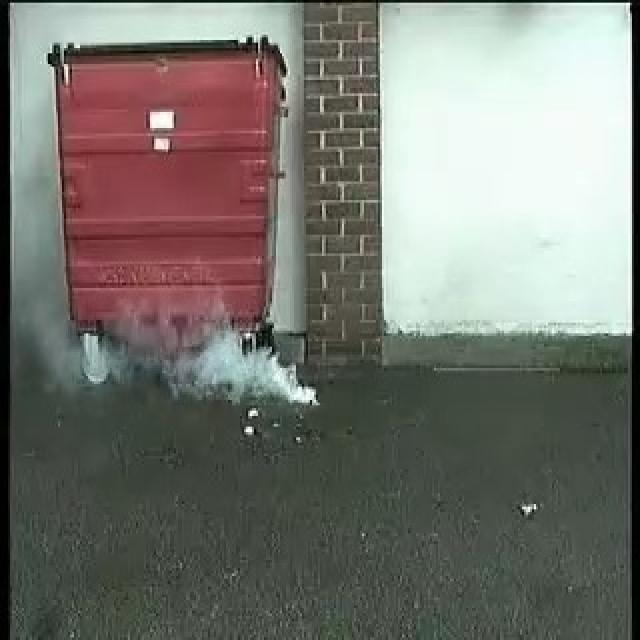smoke: (155, 322, 309, 403)
